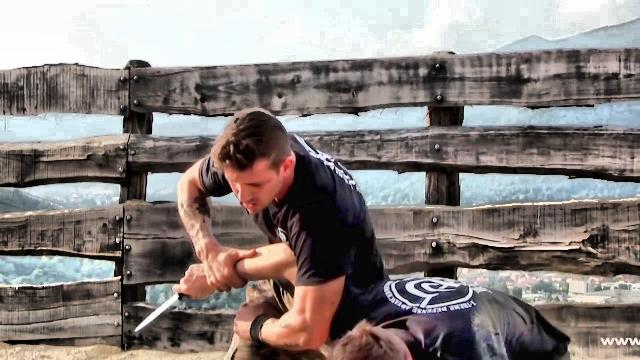knife: (126, 263, 202, 335)
